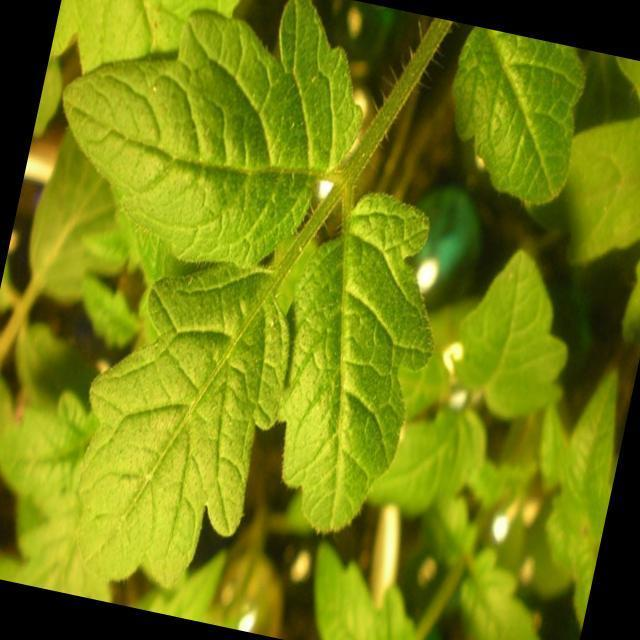Healthy Leaf: (31, 0, 380, 294), (237, 181, 463, 551), (60, 256, 296, 608), (432, 27, 606, 214)
